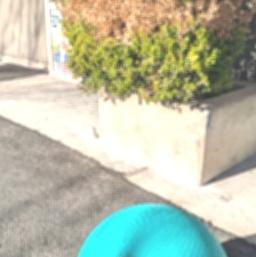algae: (73, 204, 236, 257)
